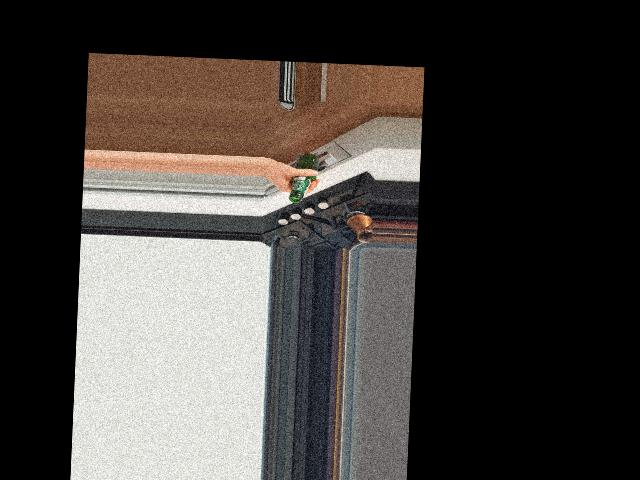beer: (288, 152, 318, 203)
